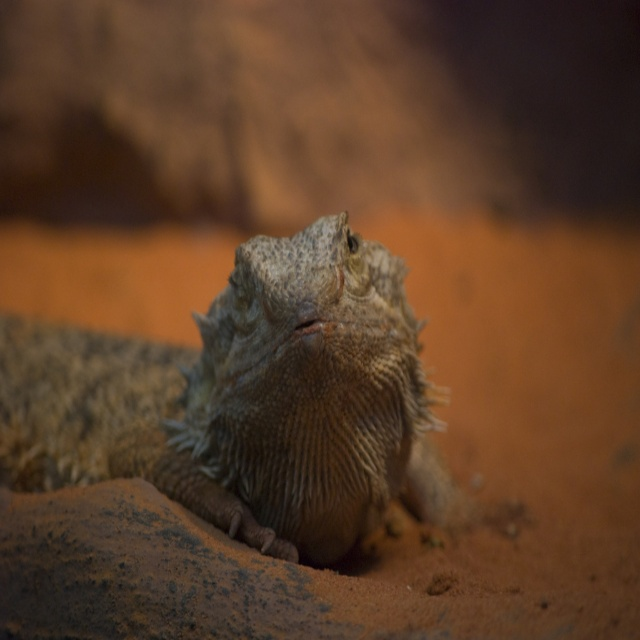Lizard: (1, 214, 504, 564)
